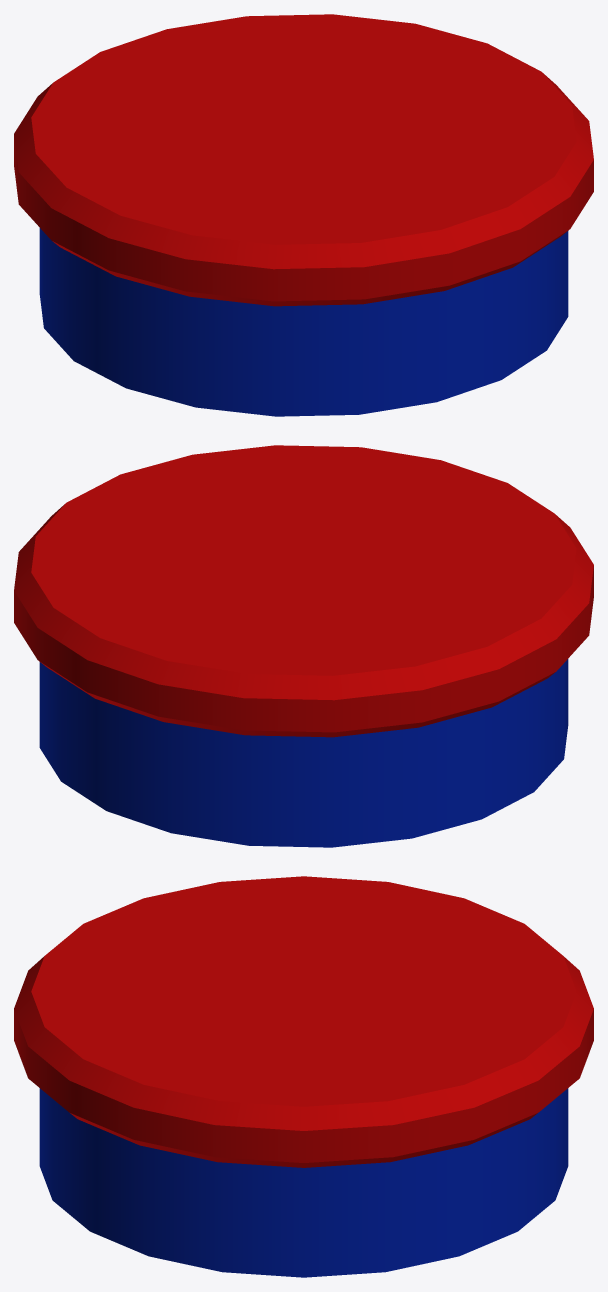
The model's file is button.fbx.
The picture shows the model from 3 angles, top to bottom: view 1: azimuth 30°, elevation 25°; view 2: azimuth 150°, elevation 25°; view 3: azimuth 270°, elevation 25°; orthographic projection.
Parts seen in each view (by area): view 1: pCylinder1; view 2: pCylinder1; view 3: pCylinder1.
Boxes of the visible parts, x1=… form: pCylinder1: x1=14, y1=14, x2=593, y2=416; pCylinder1: x1=14, y1=445, x2=593, y2=847; pCylinder1: x1=14, y1=876, x2=593, y2=1277.
Bounding box in the file's own units: 9.26 × 3.07 × 9.26.
